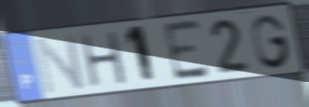1: (123, 23, 158, 86)
2: (211, 16, 253, 77)
E: (161, 17, 213, 84)
G: (250, 12, 294, 70)
H: (78, 29, 130, 90)
N: (32, 32, 88, 96)
